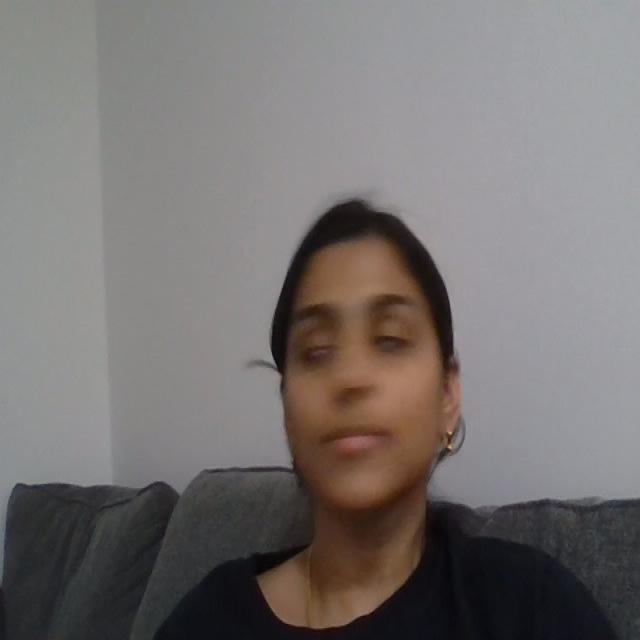No Hat: (242, 120, 472, 288)
